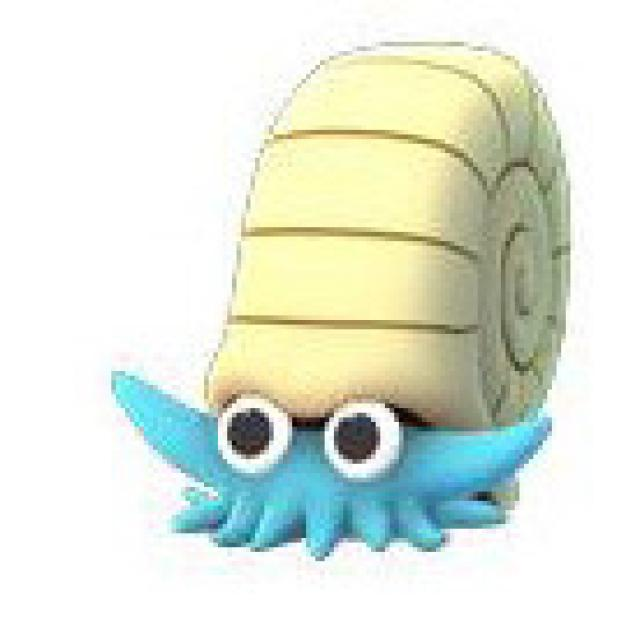Omanyte: (161, 47, 576, 549)
